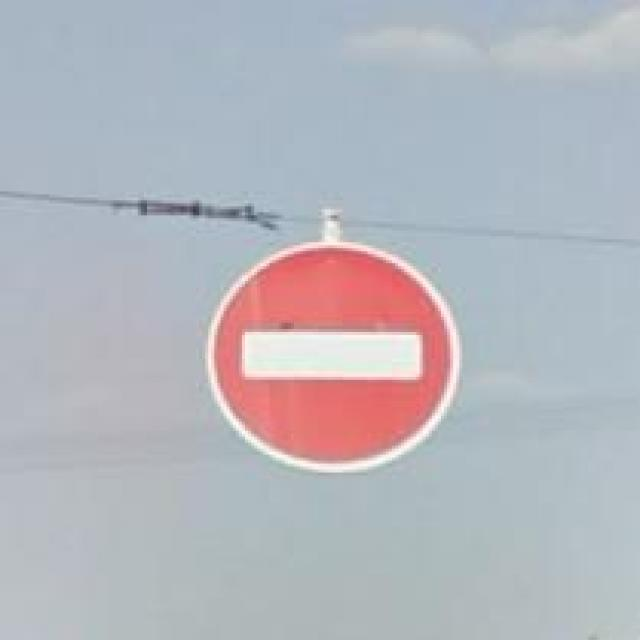traffic_sign: (205, 242, 462, 473)
